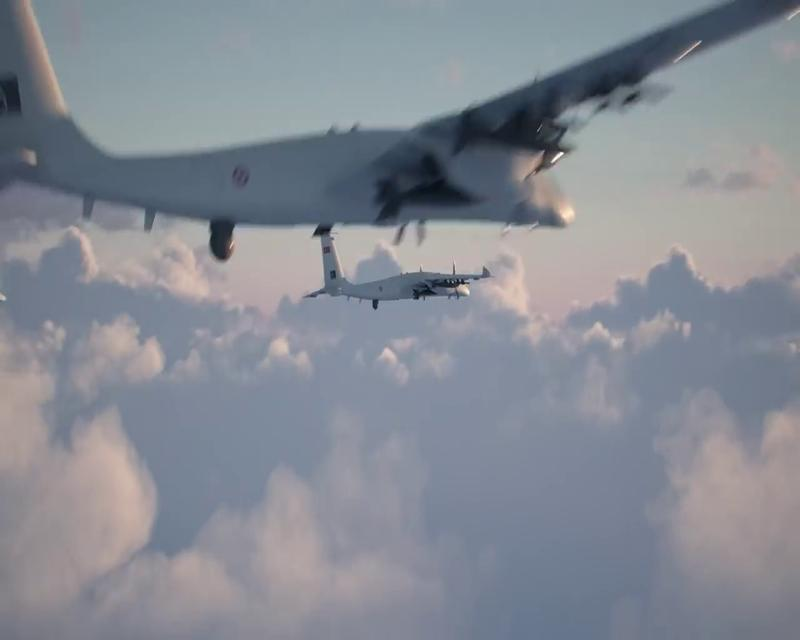UAV: (300, 232, 495, 312)
